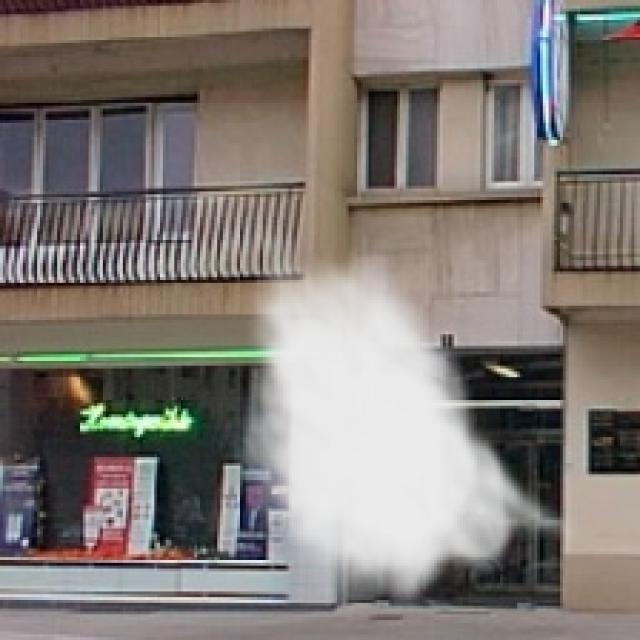Smoke: (231, 234, 583, 617)
